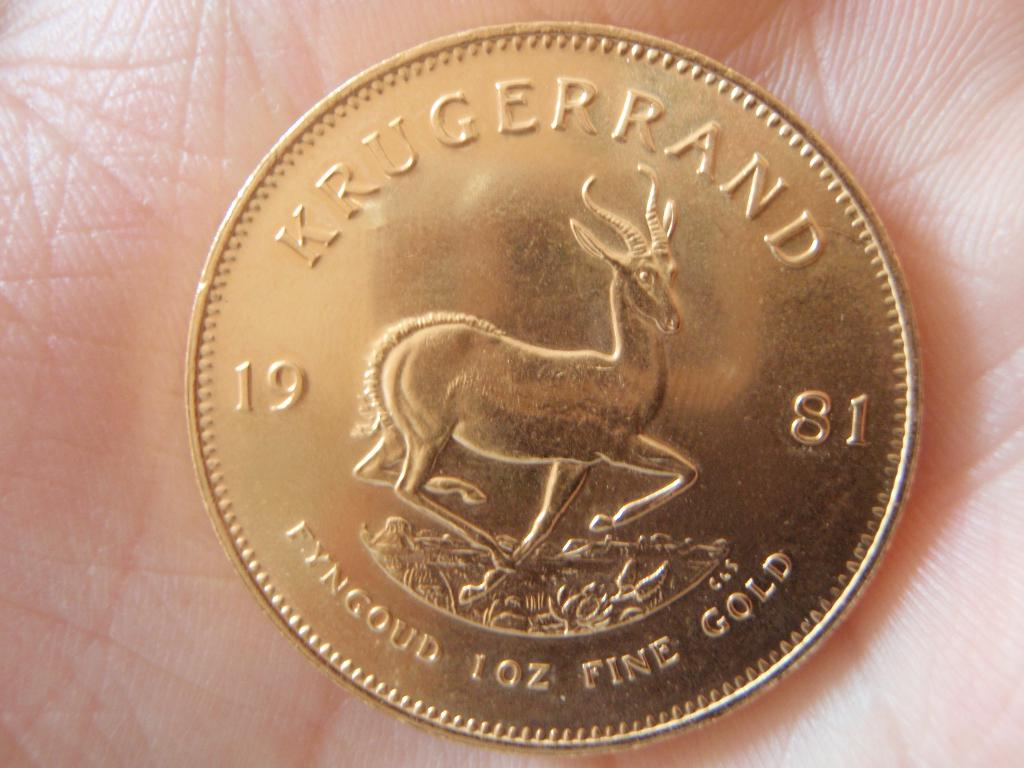Coin: (181, 21, 923, 754)
